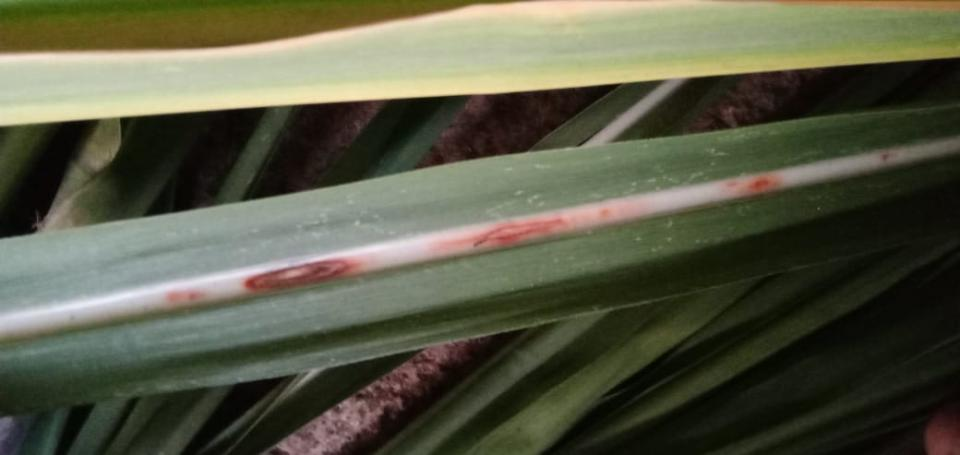RedRot: (161, 148, 909, 310)
